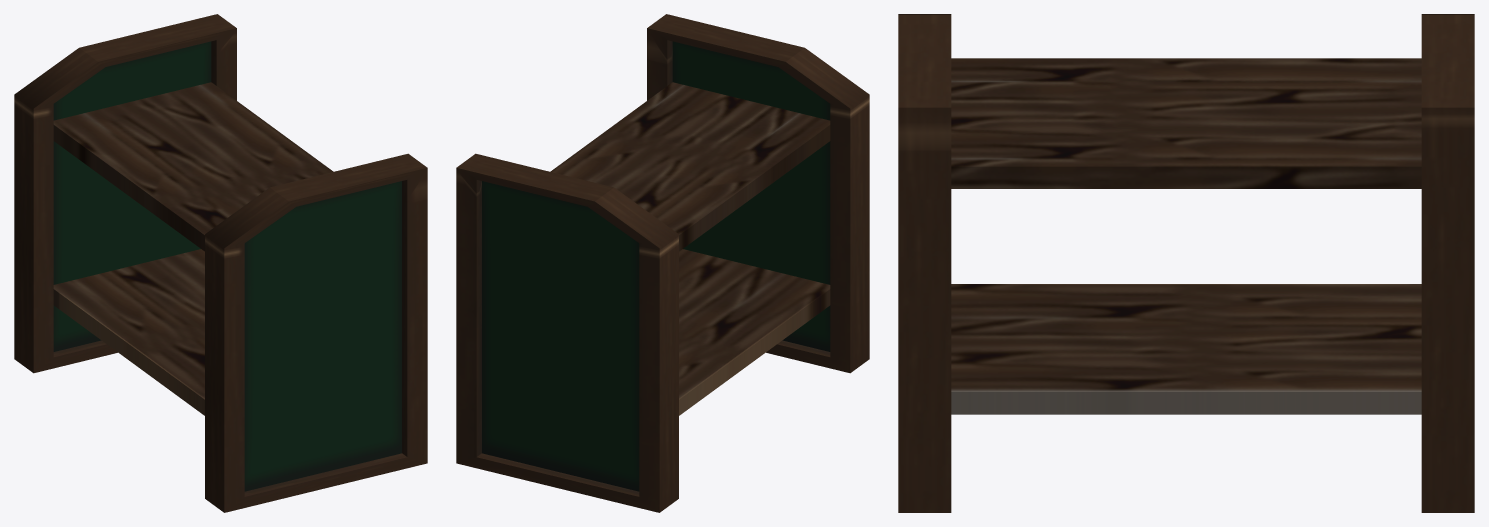
File: SM_shelf2.fbx
3 views of the same model, side by side, from view 1: azimuth 30°, elevation 25°; view 2: azimuth 150°, elevation 25°; view 3: azimuth 270°, elevation 25° (orthographic). The views are drawn at different scales.
Visible parts, largest first — view 1: SM_shelf2; view 2: SM_shelf2; view 3: SM_shelf2.
Part boxes in pixels (<box>): SM_shelf2: <box>14,14,427,512</box>; SM_shelf2: <box>456,14,869,512</box>; SM_shelf2: <box>898,14,1474,512</box>.
Bounding box in the file's own units: 1.24 × 1.73 × 2.22.
